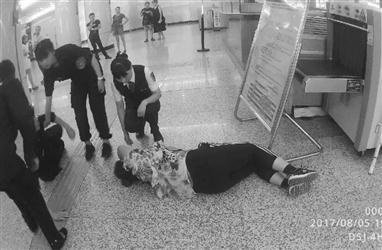falling: (106, 130, 319, 203)
